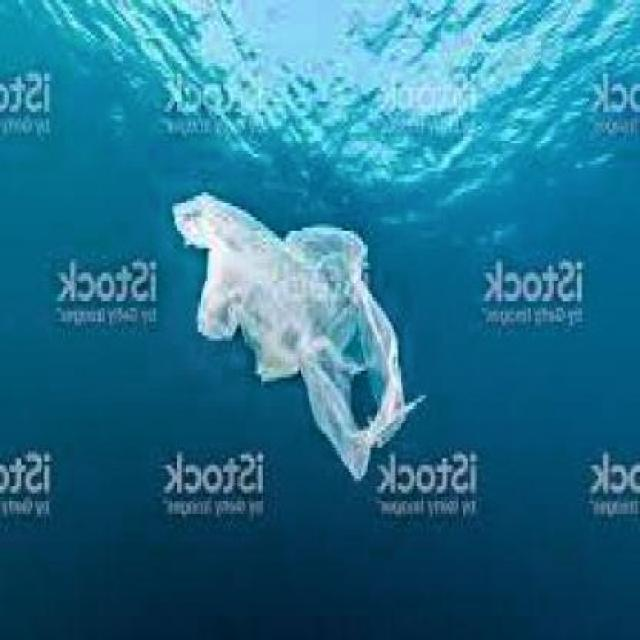pbag: (170, 188, 428, 482)
